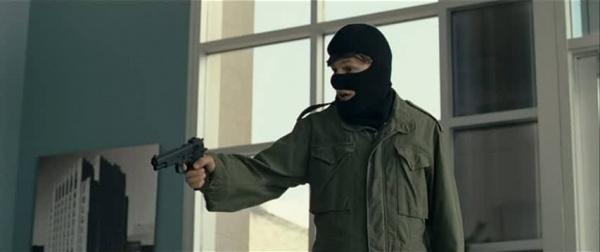Gun: (151, 134, 206, 171)
